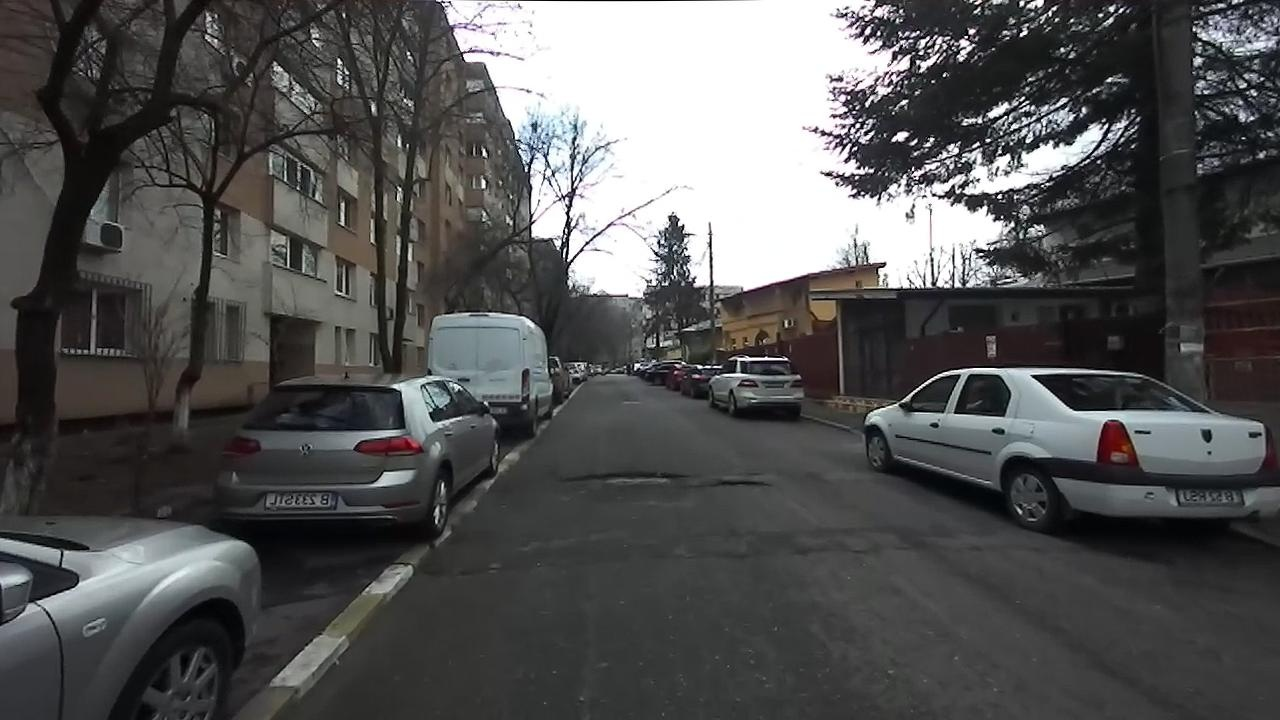pothole: (556, 468, 689, 489), (427, 558, 502, 583), (703, 475, 772, 488)
